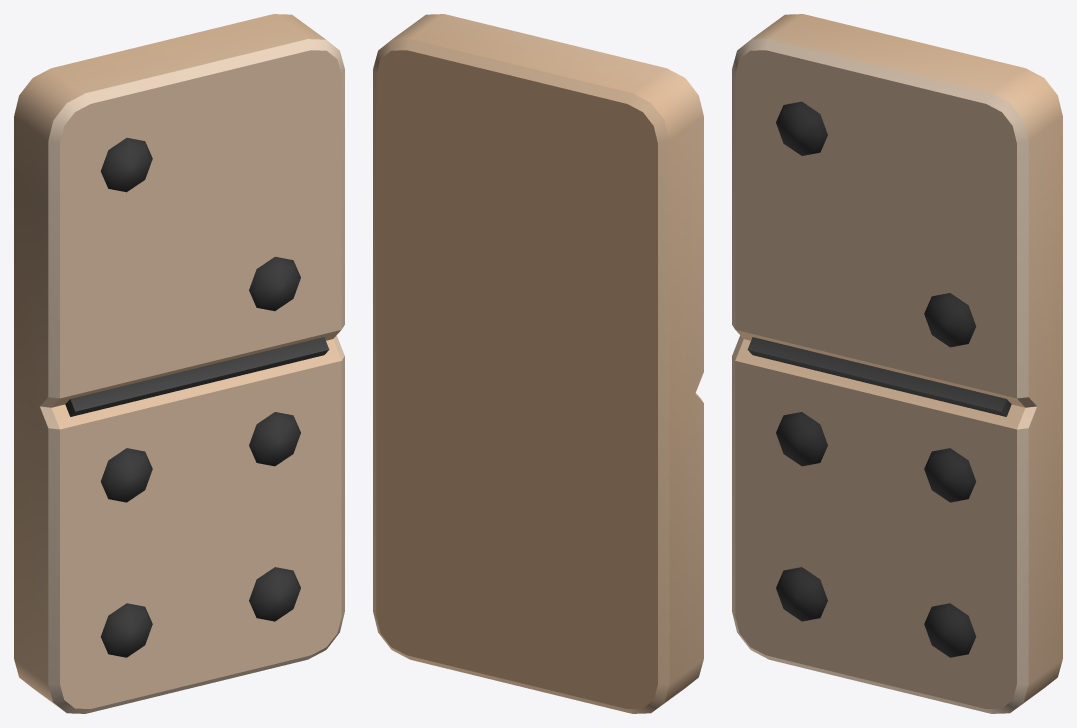
File: KFB_Domino_2-4.r1.glb
The picture shows the model from 3 angles, left to right: view 1: azimuth 30°, elevation 25°; view 2: azimuth 150°, elevation 25°; view 3: azimuth 330°, elevation 25°; orthographic projection.
Visible parts, largest first — view 1: KFB_Domino_2-4; view 2: KFB_Domino_2-4; view 3: KFB_Domino_2-4.
Boxes of the visible parts, x1,y1,x2,y2 form: KFB_Domino_2-4: (14,14,344,713); KFB_Domino_2-4: (373,14,703,713); KFB_Domino_2-4: (732,14,1062,713).
Size of the model in its own units: 2.44 by 4.87 by 0.6739.
1 material, 1 textured.
